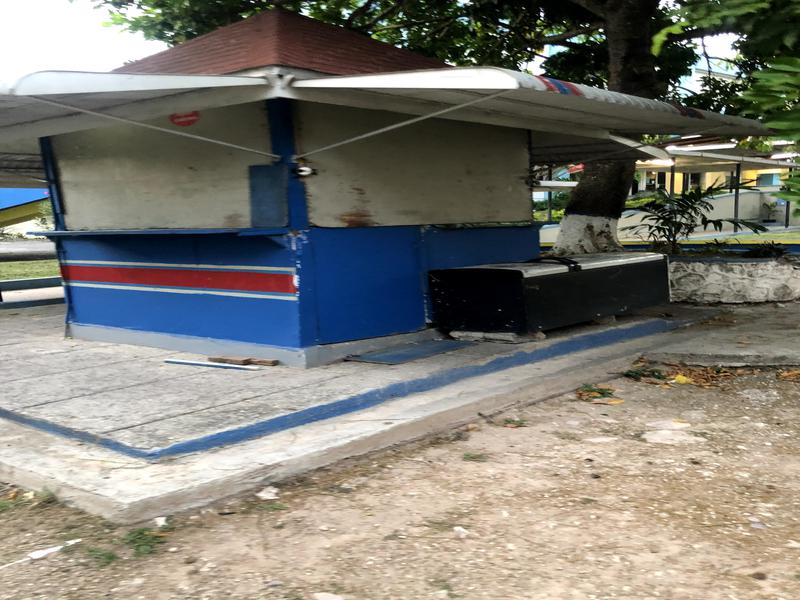18.0050609_-76.7496662_auntyjackie: (2, 3, 791, 381)
